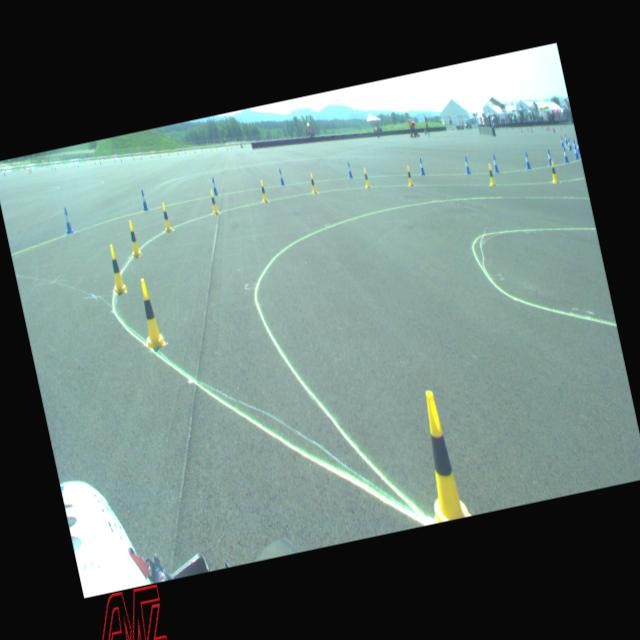blue_cone: (62, 206, 72, 233), (139, 189, 148, 210), (210, 176, 218, 195), (462, 156, 470, 173), (491, 154, 498, 172), (277, 168, 284, 185), (346, 162, 353, 178), (418, 157, 424, 175), (546, 148, 552, 166), (524, 152, 530, 168), (562, 146, 568, 162), (572, 145, 578, 158), (567, 138, 572, 150), (576, 140, 580, 154), (572, 140, 576, 150), (560, 136, 564, 146), (564, 134, 567, 143)
yellow_cone: (408, 387, 470, 523), (132, 278, 165, 348), (106, 242, 128, 294), (125, 218, 142, 258), (160, 202, 172, 232), (208, 189, 218, 214), (258, 178, 268, 202), (548, 160, 558, 183), (308, 172, 317, 194), (486, 163, 495, 185), (405, 165, 413, 185), (362, 167, 369, 187)
